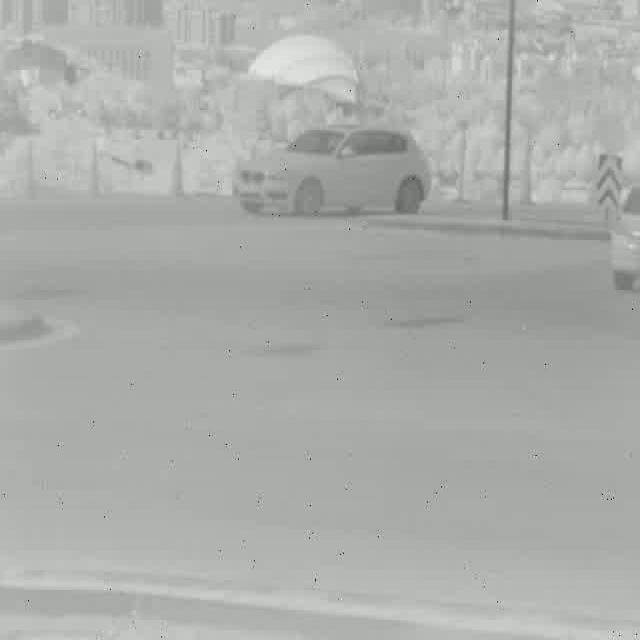Car: (233, 127, 434, 216), (609, 184, 640, 290)
